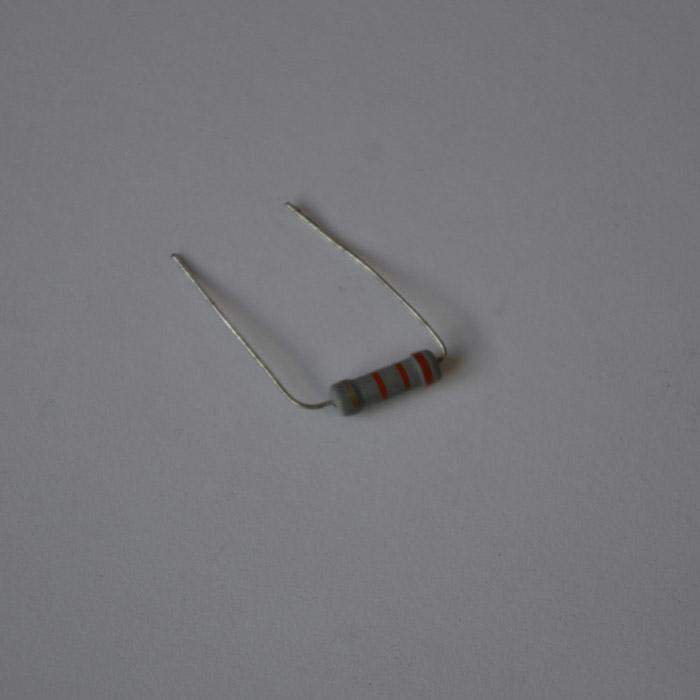resistor: (329, 347, 444, 417)
